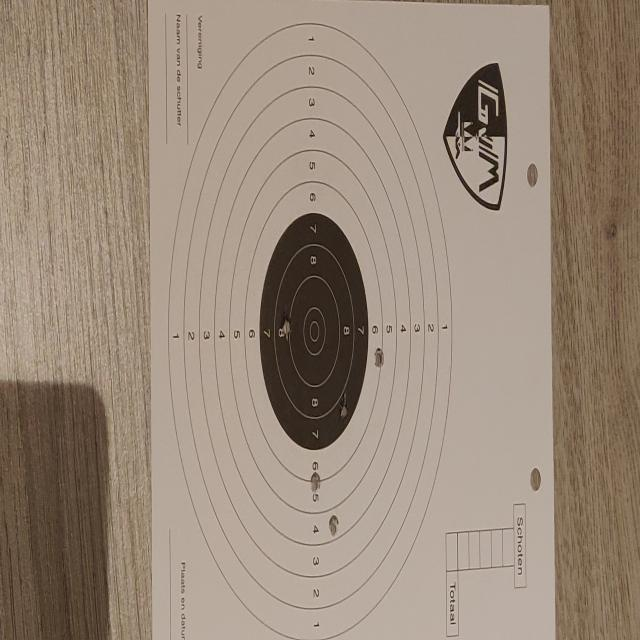4: (327, 510, 340, 541)
6: (310, 468, 322, 498), (374, 346, 384, 370)
7: (339, 393, 350, 422)
9: (281, 309, 292, 341)
Target: (167, 20, 454, 640)
black_contour: (259, 211, 369, 450)
